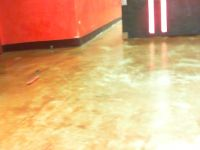switch: (148, 1, 155, 34), (160, 1, 167, 33)
